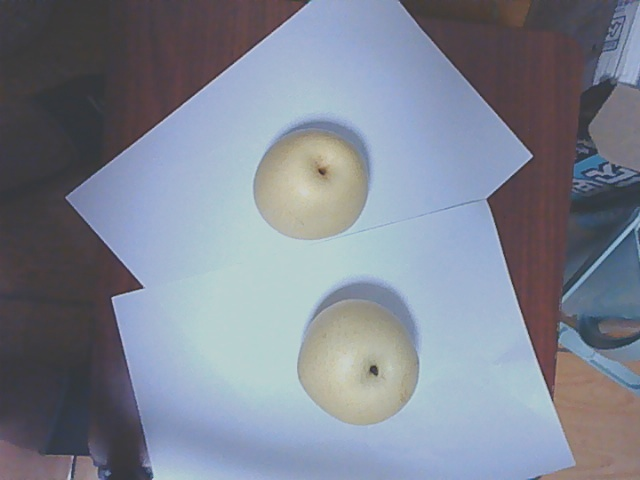pear: (294, 296, 423, 430), (250, 131, 370, 241)
